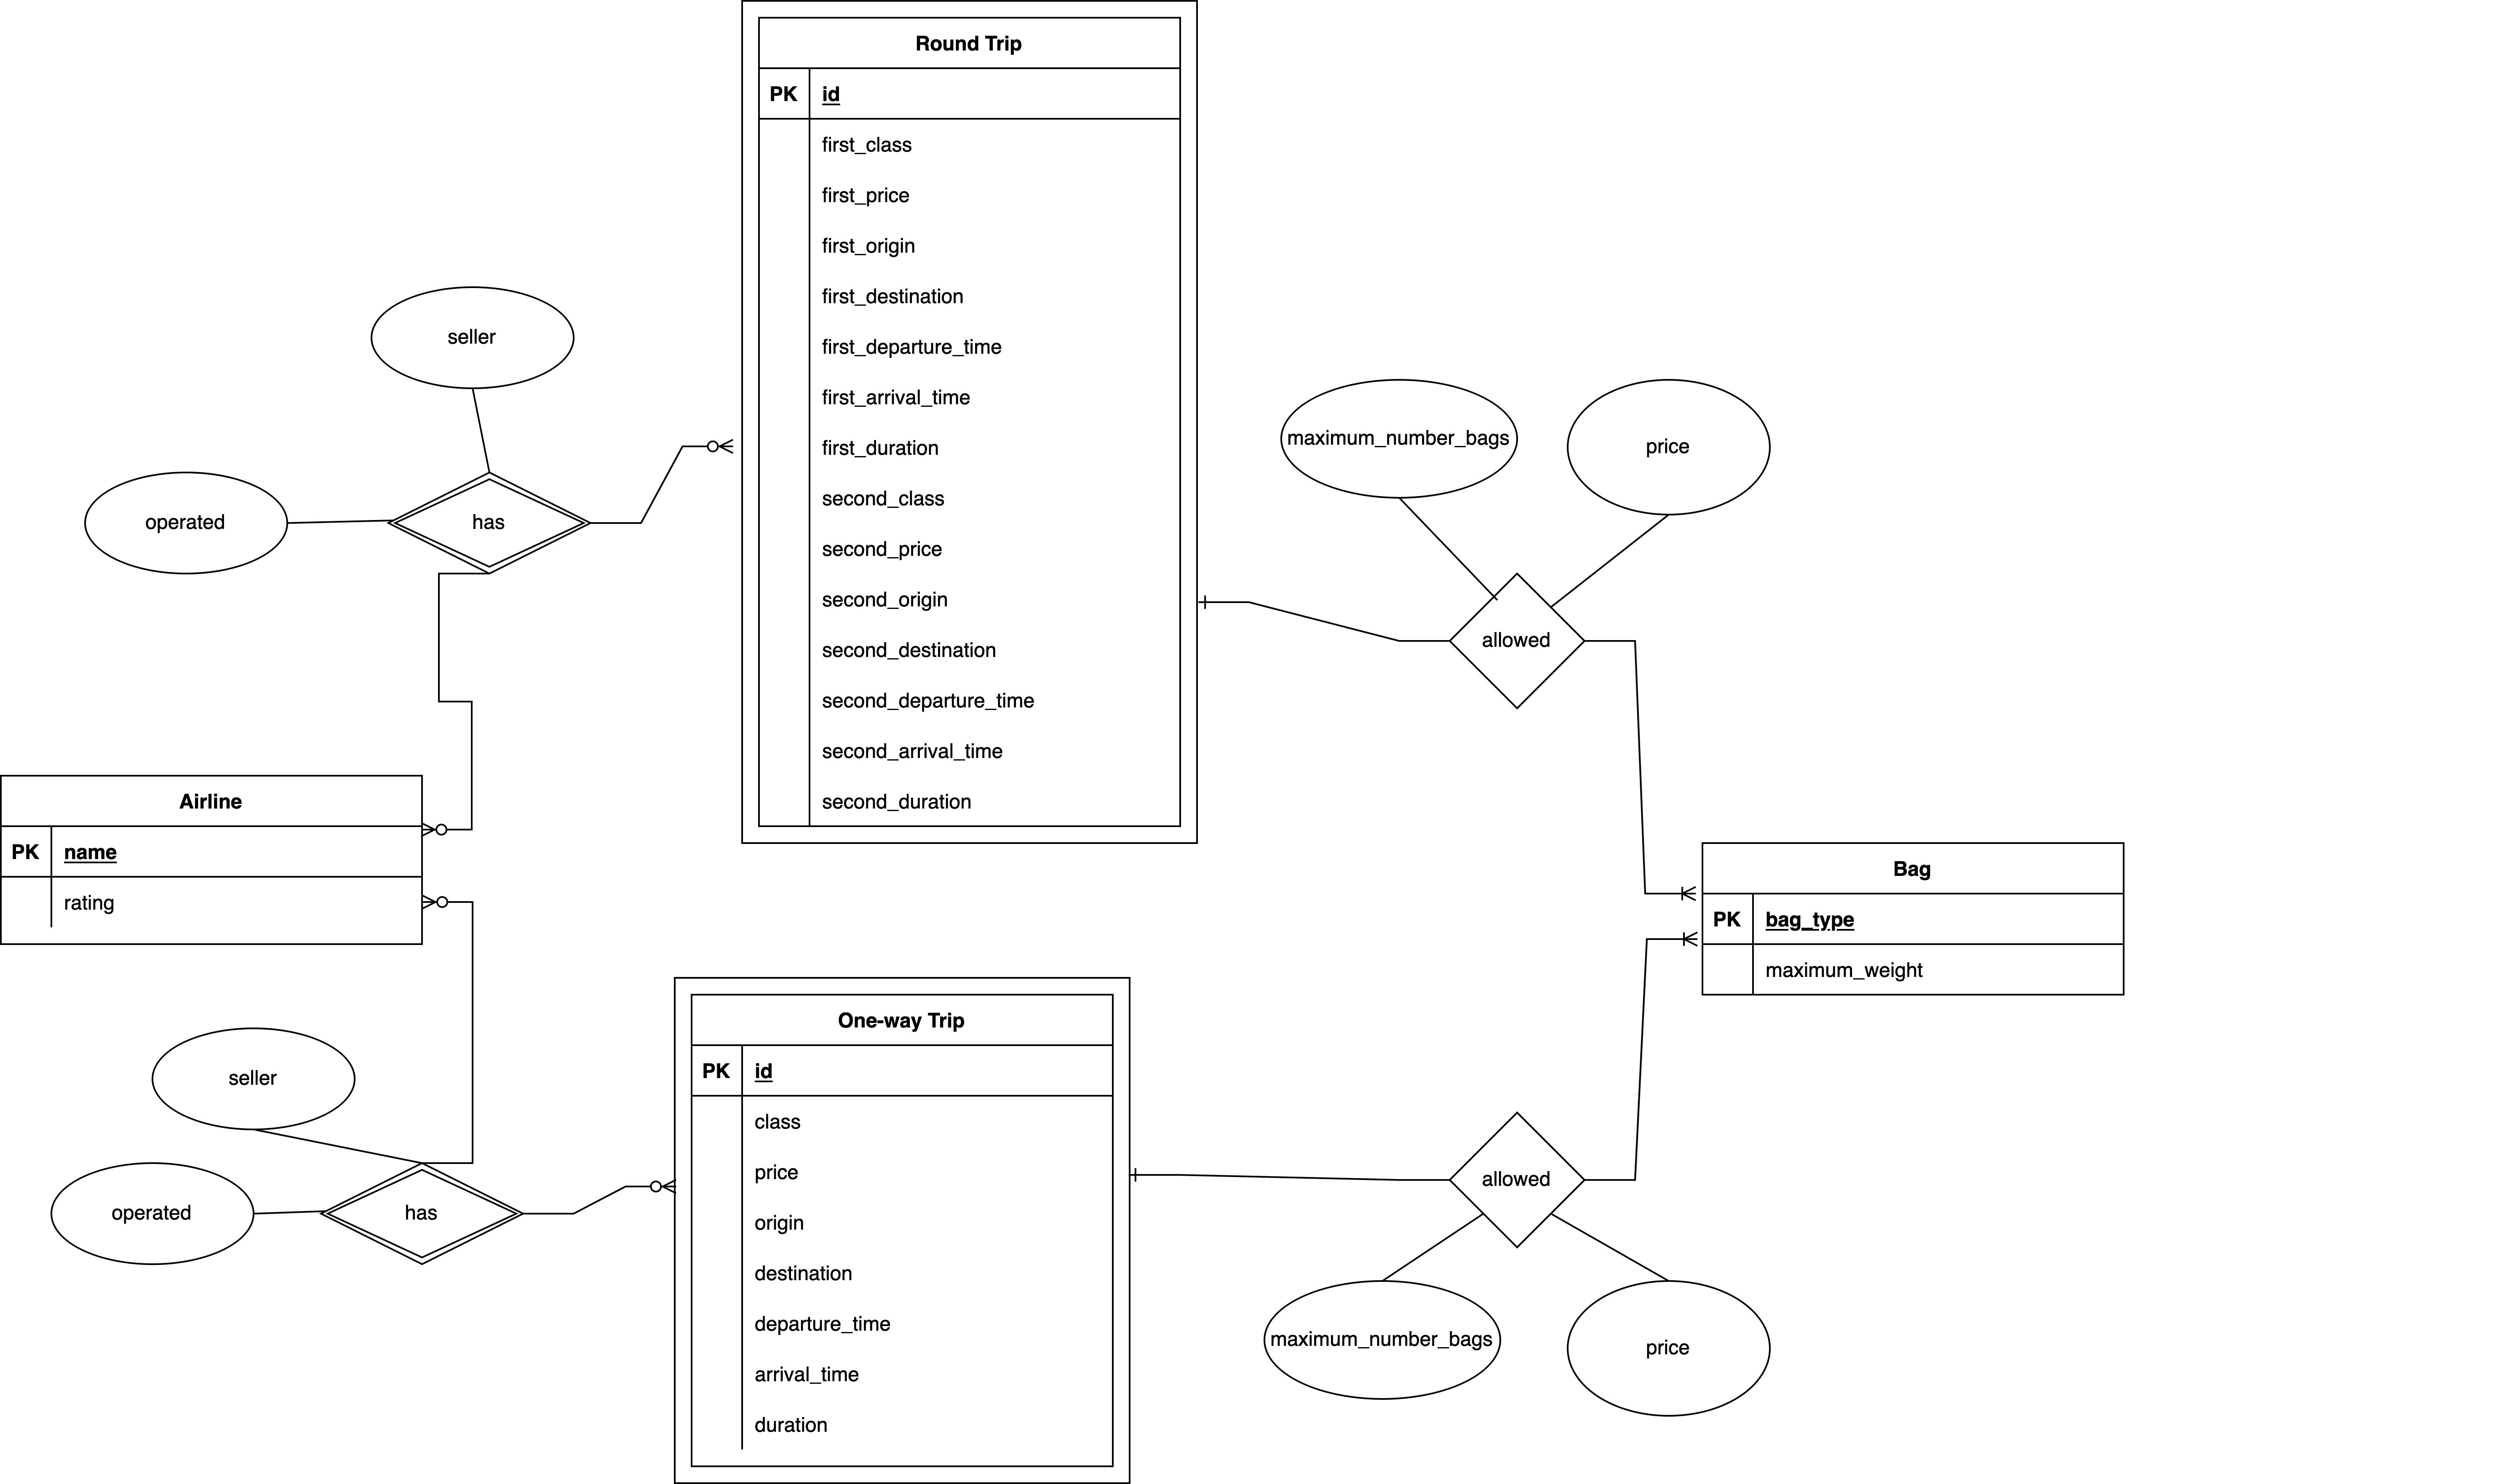attribute: (1260, 1277, 1505, 1403), (1565, 378, 1775, 518), (1275, 378, 1512, 502), (1569, 1281, 1768, 1417), (81, 470, 290, 578), (367, 284, 572, 390), (53, 1164, 256, 1267), (152, 1028, 355, 1129)
entity: (0, 774, 426, 947), (1696, 836, 2129, 1000)
relationship: (1449, 574, 1583, 710), (1445, 1111, 1578, 1247)
weakentity: (740, 0, 1203, 850), (668, 973, 1131, 1484)
weakrelationship: (320, 1159, 525, 1265), (383, 475, 588, 579)
